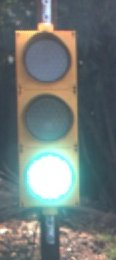Green: (8, 27, 95, 221)
